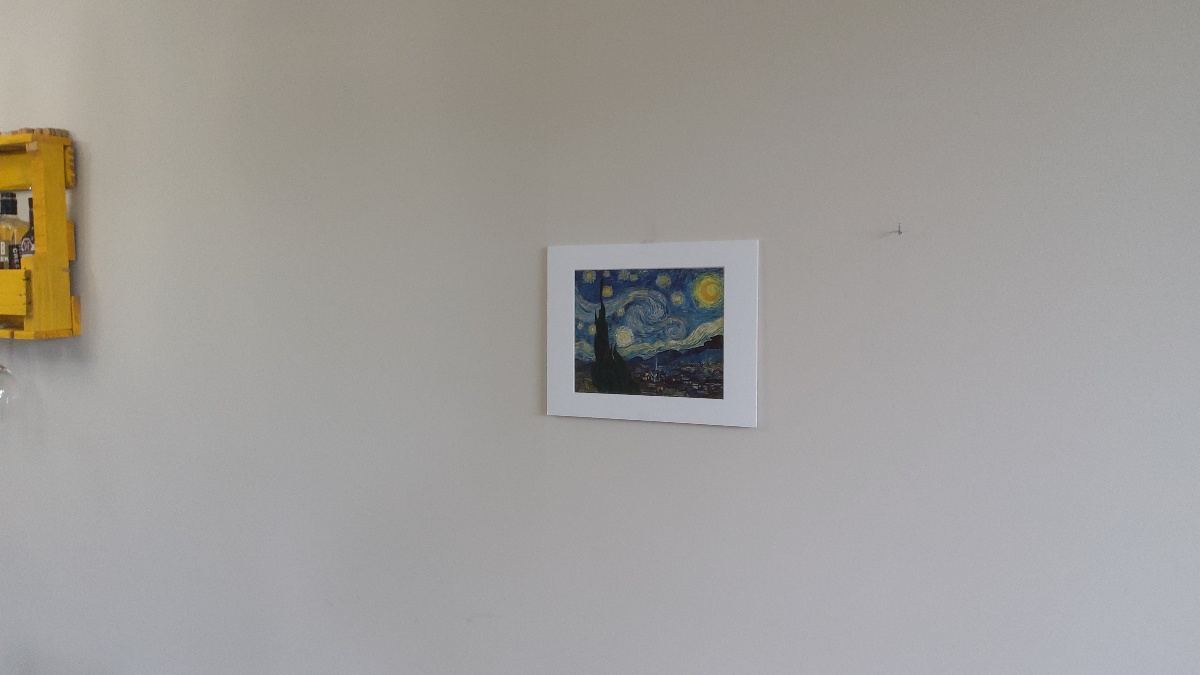painting: (564, 262, 734, 403)
